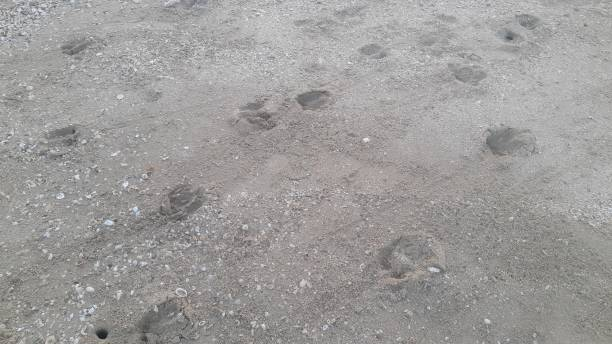animal_foot_print: (115, 299, 198, 343), (379, 235, 445, 283), (160, 183, 204, 219), (486, 126, 536, 155), (41, 124, 84, 157), (231, 109, 276, 133), (449, 64, 486, 85), (296, 90, 331, 109), (60, 37, 91, 54), (358, 43, 387, 58), (515, 14, 539, 29)
